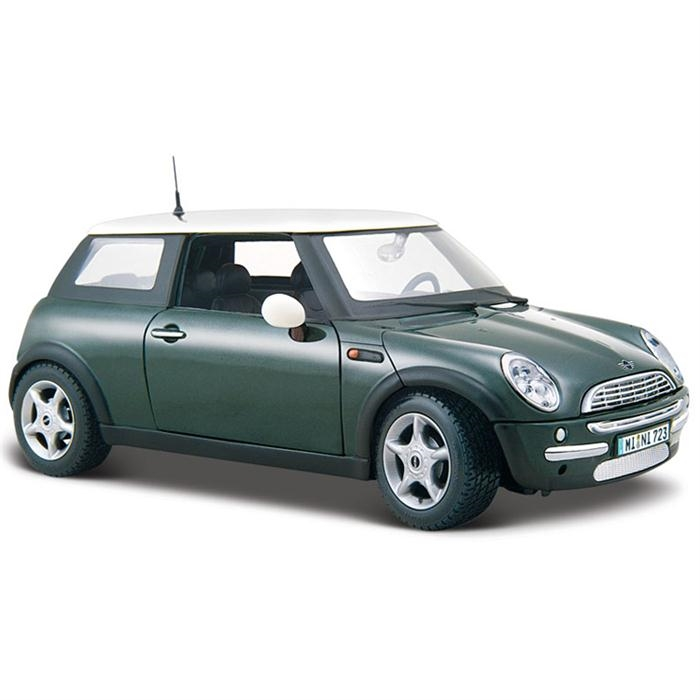ARABA: (5, 202, 693, 537)
